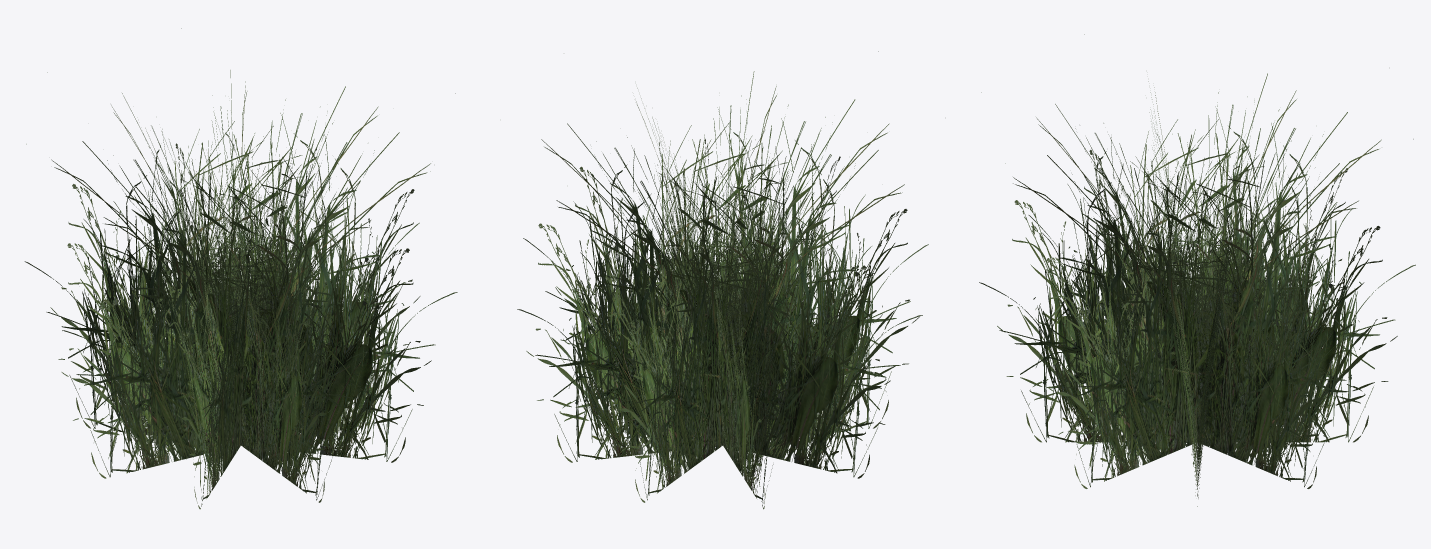
The model's file is SM_grass.FBX.
The picture shows the model from 3 angles, left to right: view 1: azimuth 30°, elevation 25°; view 2: azimuth 150°, elevation 25°; view 3: azimuth 270°, elevation 25°; orthographic projection.
Parts seen in each view (by area): view 1: Plane002; view 2: Plane002; view 3: Plane002.
Boxes of the visible parts, left/top/right/bottom form: Plane002: left=24, top=28, right=457, bottom=509; Plane002: left=517, top=51, right=928, bottom=509; Plane002: left=979, top=34, right=1415, bottom=506.
Bounding box in the file's own units: 87.26 × 73.76 × 87.26.
Materials: 1 (1 with a texture image).
